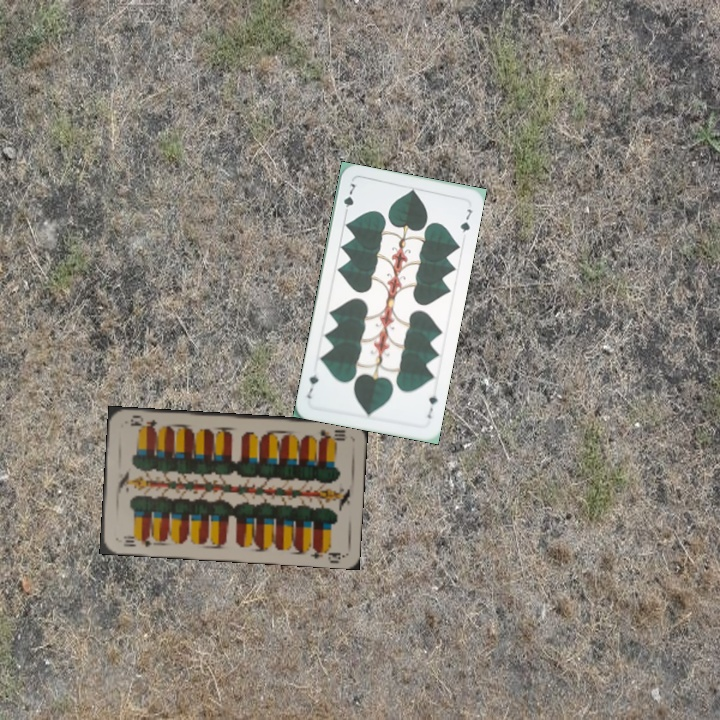E10: (310, 425, 347, 443), (119, 532, 154, 549)
G7: (339, 179, 358, 218), (423, 391, 440, 421)
